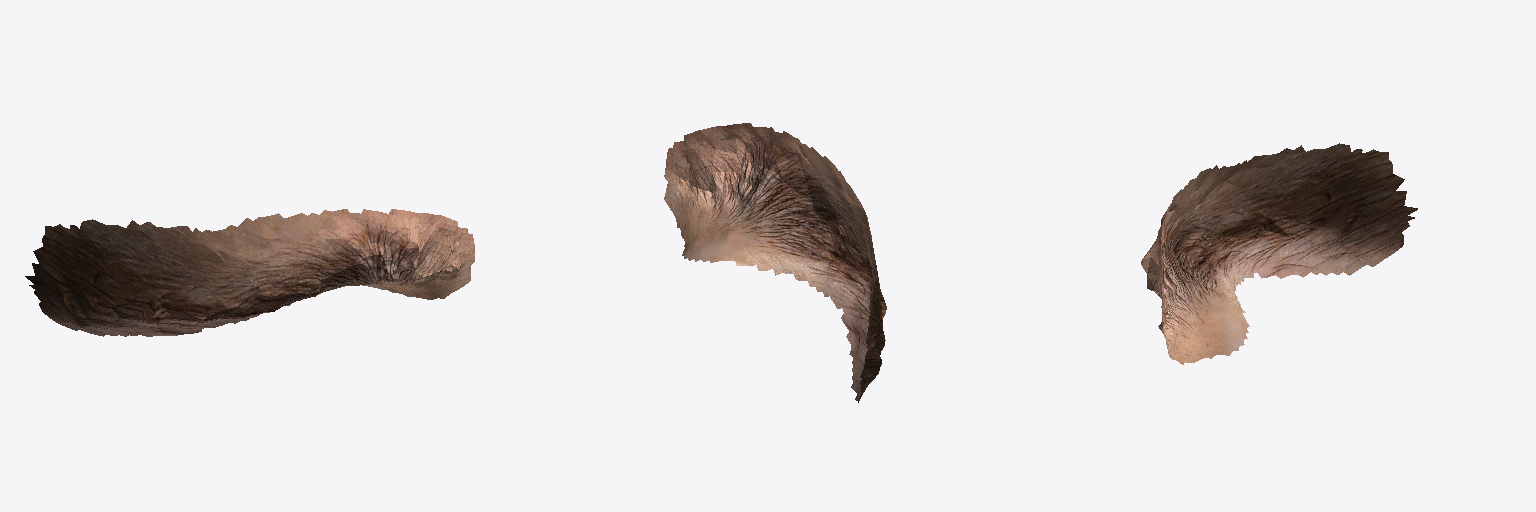
The picture shows the model from 3 angles: view 1: azimuth 30°, elevation 25°; view 2: azimuth 150°, elevation 25°; view 3: azimuth 270°, elevation 25°; orthographic projection.
Visible parts, largest first — view 1: default; view 2: default; view 3: default.
Boxes of the visible parts, x1=… form: default: x1=25, y1=209, x2=474, y2=336; default: x1=664, y1=123, x2=886, y2=402; default: x1=1141, y1=143, x2=1417, y2=364.
Size of the model in its own units: 62.71 by 28.67 by 46.9.
1 materials, 1 textured.